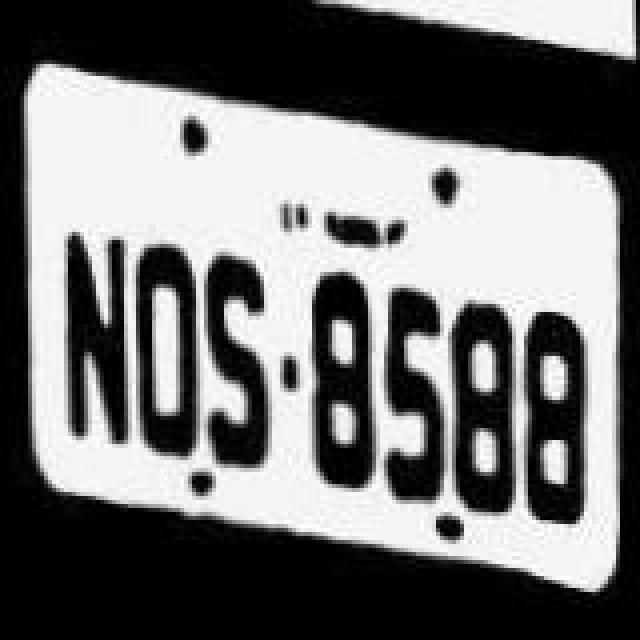5: (372, 278, 456, 514)
8: (518, 294, 598, 554), (298, 266, 386, 498), (446, 284, 526, 524)
N: (50, 198, 134, 458)
O: (124, 228, 204, 464)
S: (198, 254, 282, 474)
